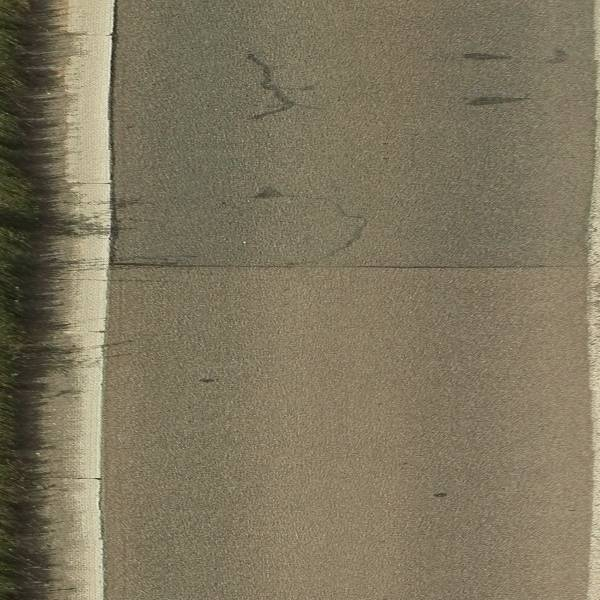road_damage: (101, 211, 582, 303), (239, 48, 331, 135), (316, 195, 370, 263), (463, 91, 540, 116)
